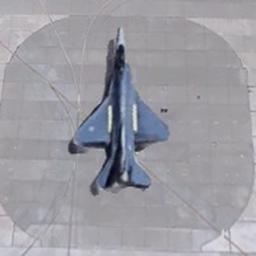Airplane: (67, 25, 170, 195)
